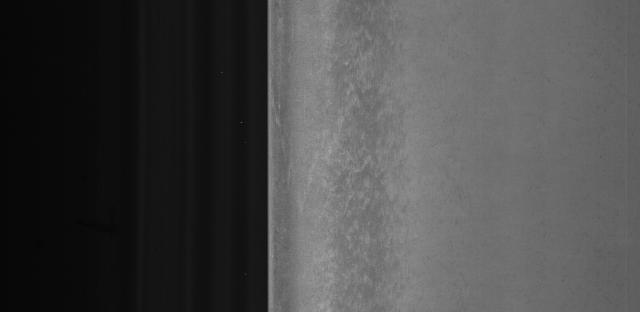silk_spot: (334, 45, 425, 312)
